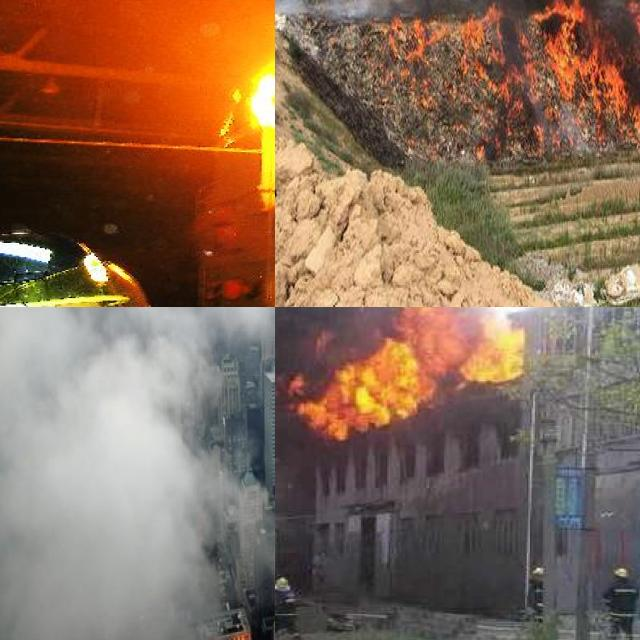fire: (363, 0, 640, 152), (281, 307, 525, 437), (206, 626, 251, 640)
smoke: (21, 406, 210, 634)
